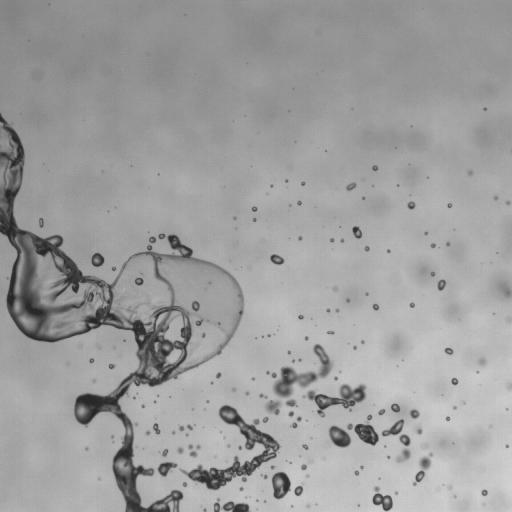droplet: (179, 404, 280, 490), (381, 419, 410, 463), (346, 415, 379, 445), (271, 472, 290, 499), (328, 425, 351, 447), (372, 486, 392, 511), (157, 462, 177, 476), (91, 253, 104, 266), (188, 444, 200, 457), (270, 254, 284, 265), (352, 226, 361, 238), (294, 484, 302, 496), (409, 409, 419, 418), (437, 279, 445, 290), (346, 182, 356, 190), (153, 423, 160, 434), (134, 277, 143, 285), (391, 403, 399, 412), (407, 201, 415, 209), (414, 426, 422, 434), (444, 347, 453, 354), (504, 289, 511, 296), (479, 358, 486, 365), (451, 378, 458, 385), (161, 449, 168, 456), (108, 363, 115, 369), (378, 409, 385, 415), (421, 443, 428, 449), (506, 382, 511, 390), (39, 218, 43, 227), (372, 304, 378, 310), (177, 447, 183, 453), (481, 489, 487, 495), (251, 206, 257, 211), (216, 372, 221, 378), (262, 417, 268, 422), (187, 424, 193, 429), (302, 444, 308, 449), (301, 464, 306, 470), (259, 394, 266, 398), (372, 165, 377, 170), (364, 246, 369, 251), (288, 411, 293, 416), (179, 426, 184, 431), (354, 470, 359, 475), (447, 203, 452, 207), (333, 286, 337, 291), (410, 302, 414, 307), (298, 315, 303, 319), (507, 317, 511, 322), (200, 333, 205, 337), (89, 358, 93, 363), (262, 474, 267, 478), (182, 482, 187, 486), (327, 331, 333, 334), (468, 171, 472, 175), (301, 181, 305, 185), (297, 201, 301, 205), (506, 200, 510, 204), (298, 236, 302, 240), (330, 238, 334, 242), (431, 243, 435, 247), (335, 308, 339, 312), (304, 336, 308, 340), (245, 391, 249, 395), (445, 416, 449, 420), (239, 487, 243, 491), (448, 486, 452, 490), (446, 242, 449, 246), (112, 266, 115, 270), (431, 272, 434, 276), (327, 308, 330, 312), (334, 376, 337, 380), (145, 431, 149, 434), (271, 465, 274, 469), (494, 196, 497, 199), (346, 299, 349, 302), (353, 346, 356, 349), (238, 446, 241, 449), (387, 455, 390, 458), (287, 351, 291, 353), (484, 107, 486, 110), (253, 218, 255, 221), (340, 239, 343, 241), (387, 250, 390, 252), (252, 377, 254, 380), (92, 380, 95, 382), (232, 388, 235, 390), (454, 406, 456, 409), (172, 431, 175, 433), (111, 435, 113, 438), (227, 444, 229, 447), (85, 447, 88, 449), (360, 466, 363, 468), (395, 491, 397, 494), (203, 509, 206, 511), (234, 217, 236, 219), (268, 334, 270, 336), (462, 401, 464, 403), (142, 405, 144, 407), (506, 445, 508, 447), (307, 504, 309, 506)
ligament: (0, 114, 243, 511), (265, 344, 333, 415), (303, 383, 366, 417), (413, 453, 432, 485), (213, 498, 251, 511), (291, 416, 301, 428)
